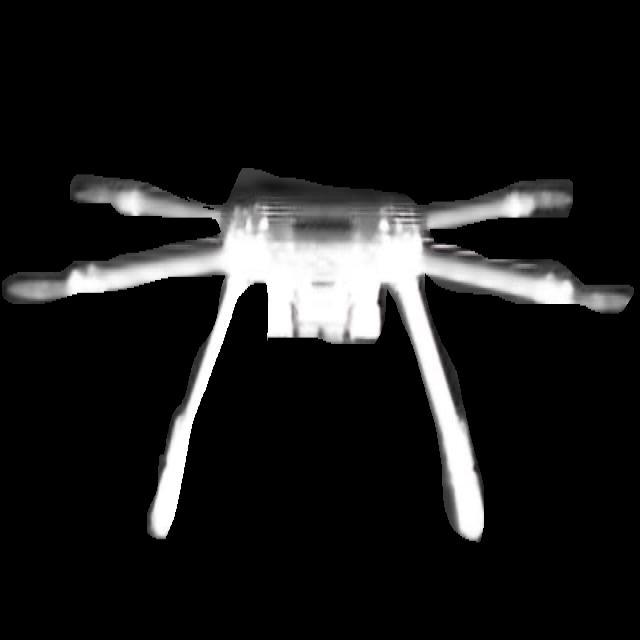drone: (8, 72, 635, 592)
